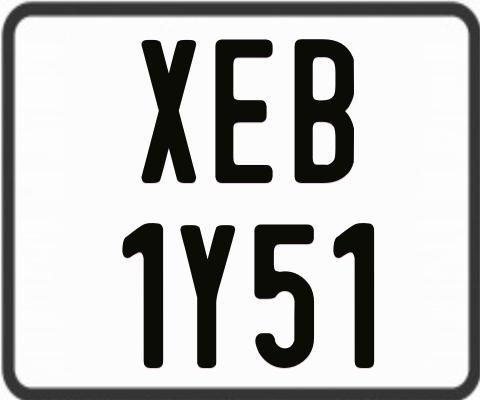1: (332, 223, 377, 373), (121, 220, 163, 365)
5: (252, 221, 312, 366)
B: (295, 36, 355, 182)
E: (212, 38, 276, 186)
X: (140, 37, 195, 181)
Y: (178, 222, 236, 366)
